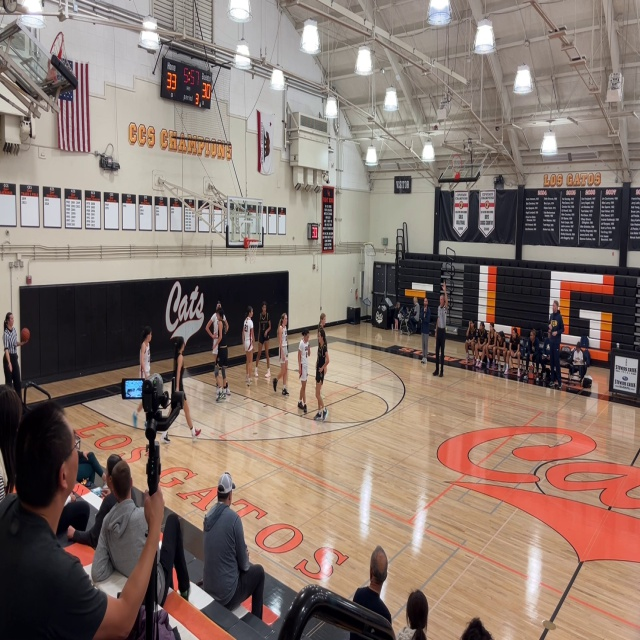Basketball: (21, 327, 30, 342)
